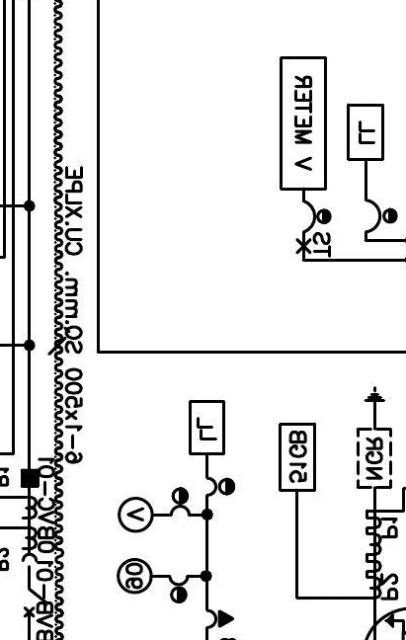LL: (345, 103, 385, 162), (189, 399, 226, 456)
NGR_future: (356, 385, 393, 490)
v_m: (116, 496, 155, 534)
v_m_digital: (278, 55, 328, 192)
